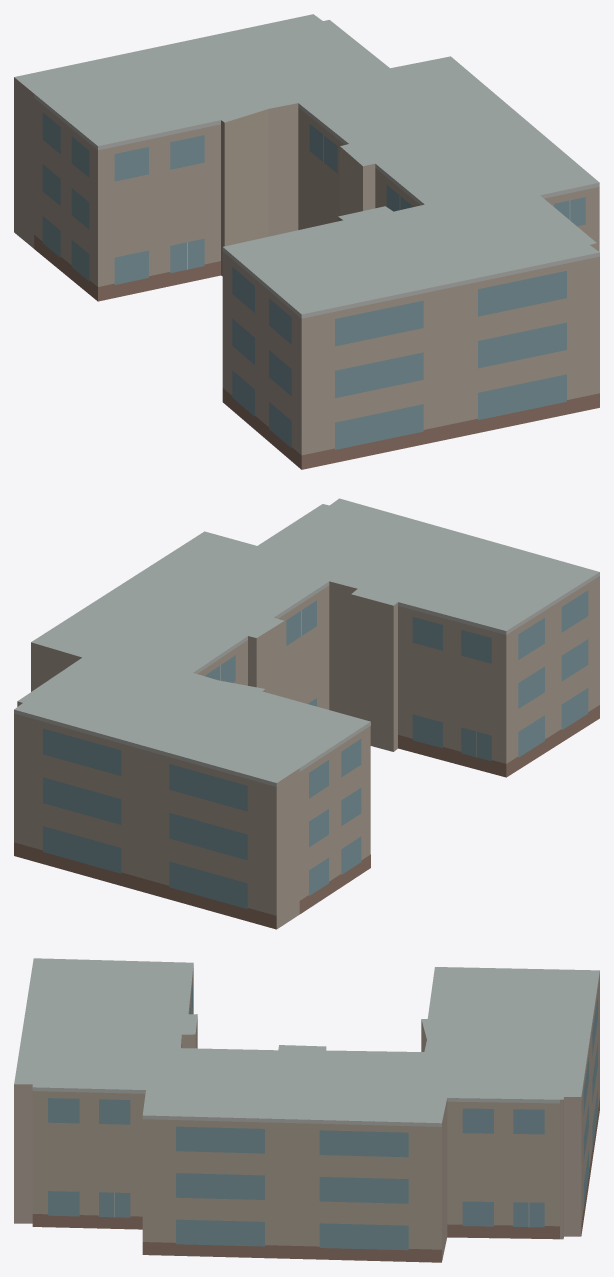
Rendered from survey-upis-32898015.glb.
3 renders of one model, top to bottom at view 1: azimuth 30°, elevation 25°; view 2: azimuth 150°, elevation 25°; view 3: azimuth 270°, elevation 25°, orthographic. The views are drawn at different scales.
Parts seen in each view (by area): view 1: survey-upis-32898015.tmp; view 2: survey-upis-32898015.tmp; view 3: survey-upis-32898015.tmp.
Boxes of the visible parts, x1,y1,x2,y2 form: survey-upis-32898015.tmp: (14,14,599,469); survey-upis-32898015.tmp: (14,498,599,929); survey-upis-32898015.tmp: (14,958,599,1262).
Size of the model in its own units: 23.22 by 9.15 by 34.84.
